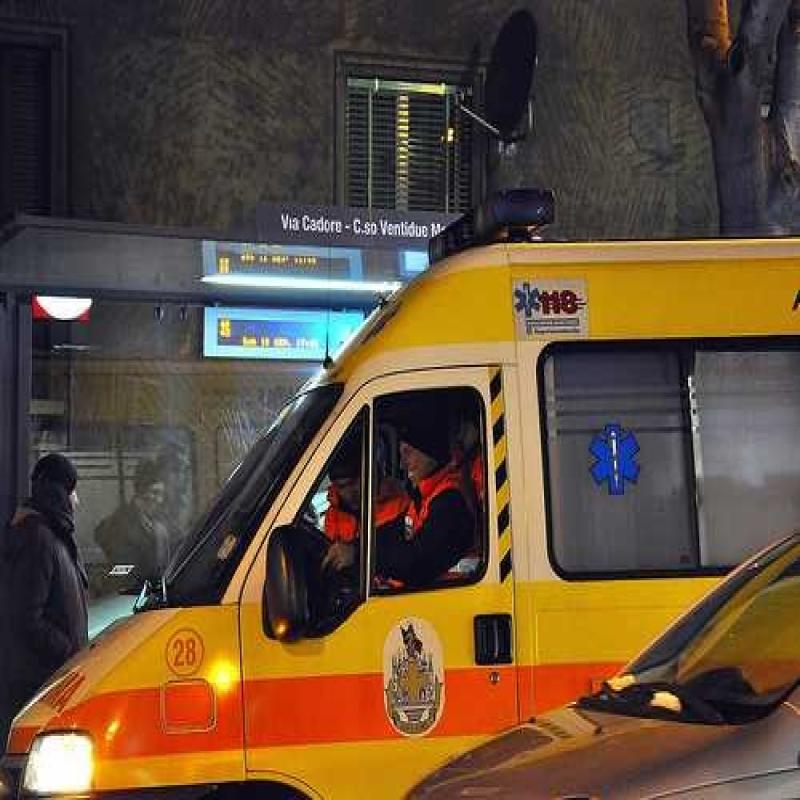AmbulanceSiren: (406, 192, 570, 261)
